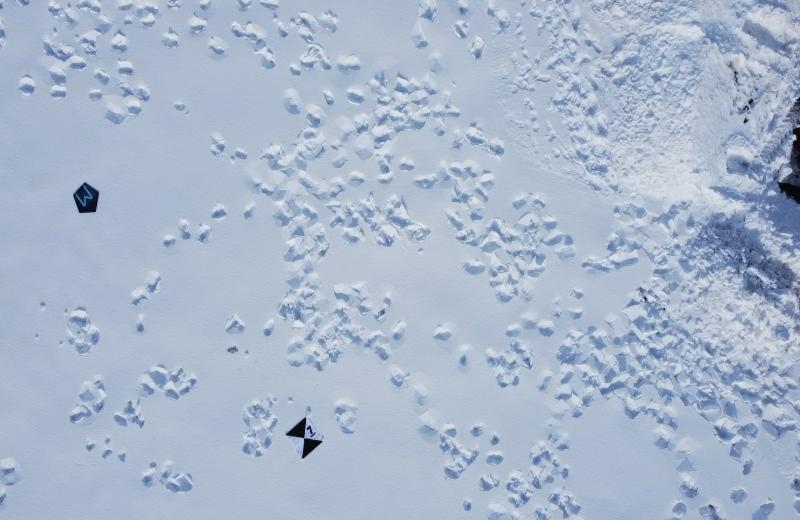Pentagon: (68, 177, 102, 216)
